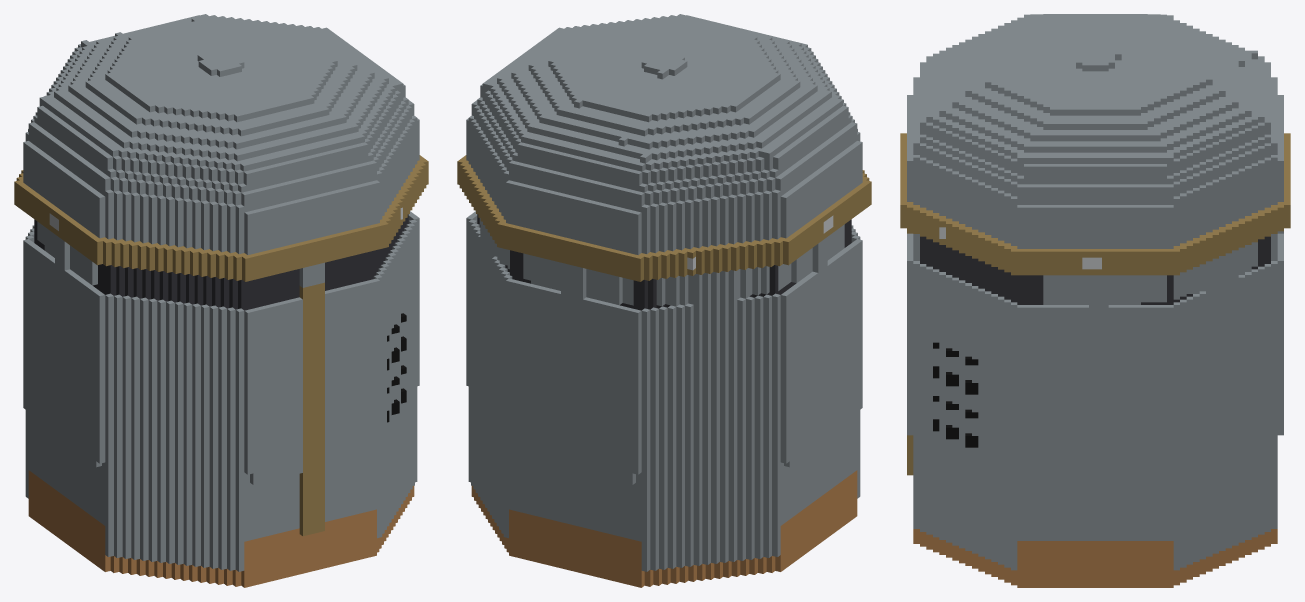
Rendered from helmet_plate.glb.
3 renders of one model, left to right at view 1: azimuth 30°, elevation 25°; view 2: azimuth 150°, elevation 25°; view 3: azimuth 270°, elevation 25°, orthographic. The views are drawn at different scales.
Visible parts, largest first — view 1: helmet_plate:compound; view 2: helmet_plate:compound; view 3: helmet_plate:compound.
Part boxes in pixels (left/top/right/bottom): helmet_plate:compound: left=14, top=14, right=428, bottom=587; helmet_plate:compound: left=457, top=14, right=871, bottom=587; helmet_plate:compound: left=900, top=14, right=1290, bottom=587.
Size of the model in its own units: 0.24 by 0.308 by 0.24.
